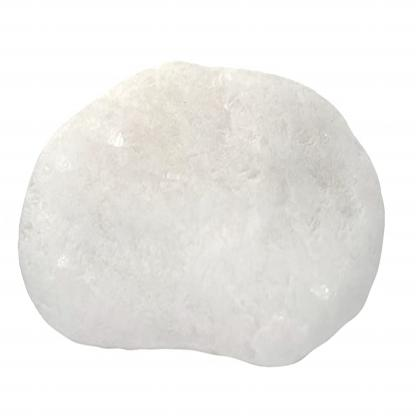Metamorphic_Marble: (16, 51, 382, 373)
